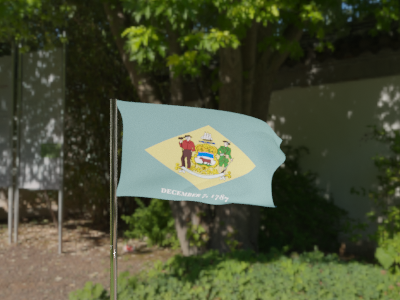Delaware flag: (115, 98, 286, 209)
